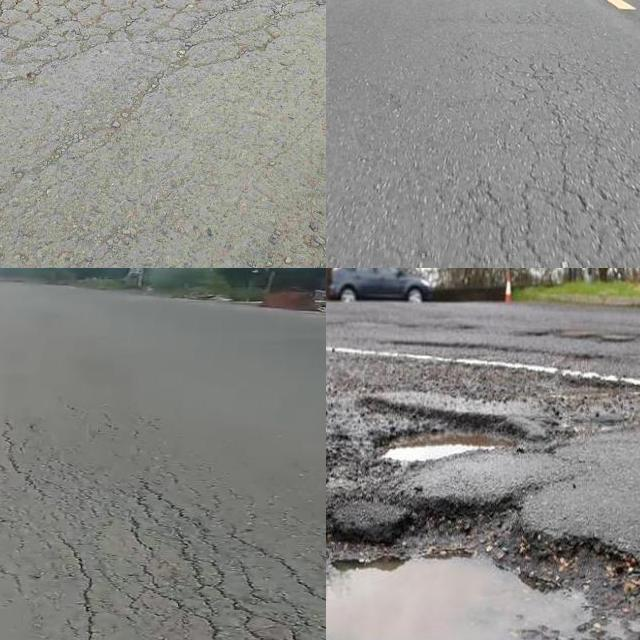Lubang: (326, 506, 640, 640), (376, 423, 528, 465)
Retak Buaya: (76, 488, 326, 640), (422, 107, 640, 268)
